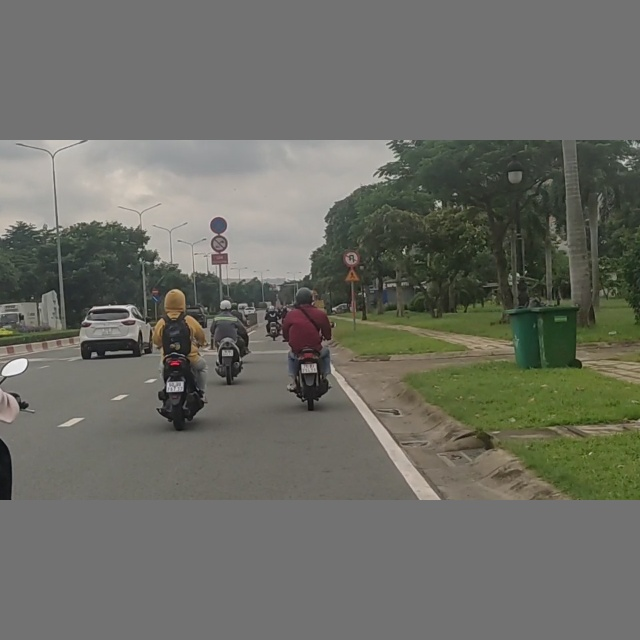P.102: (151, 287, 159, 295)
P.111: (211, 235, 228, 252)
P.124a*: (343, 251, 360, 267)
P.130: (210, 217, 227, 233)
R.302a: (152, 295, 160, 302)
W.224: (344, 267, 361, 281)
